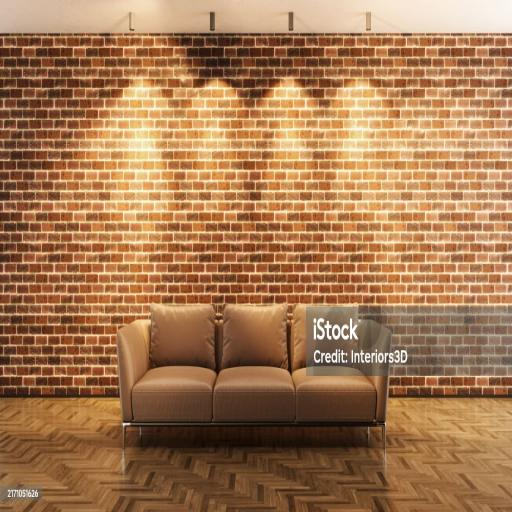back_cushion: (220, 304, 288, 368), (292, 307, 359, 370), (150, 305, 215, 368)
base: (122, 420, 385, 430)
left_arm: (353, 320, 400, 421)
legs: (122, 423, 136, 449), (378, 422, 384, 450), (138, 426, 142, 439), (367, 427, 369, 439)
right_arm: (117, 320, 150, 420)
seat_cushion: (122, 366, 386, 425)
stallion-sofa: (118, 303, 404, 449)
